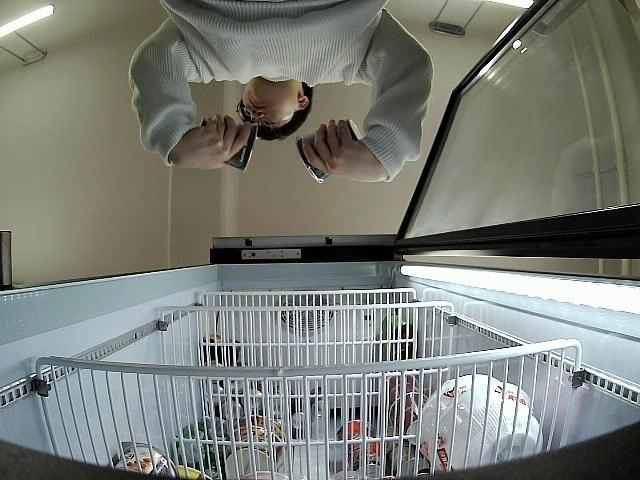08_buldak_S: (296, 121, 361, 184), (202, 117, 257, 172)
